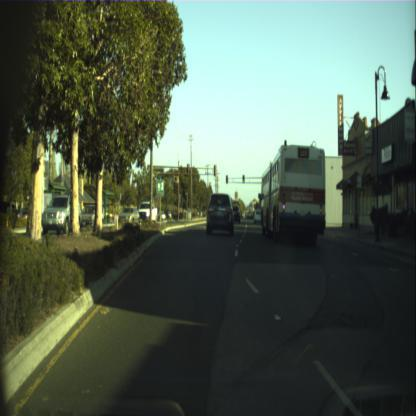Green: (242, 174, 245, 183)
off: (225, 174, 228, 184)
